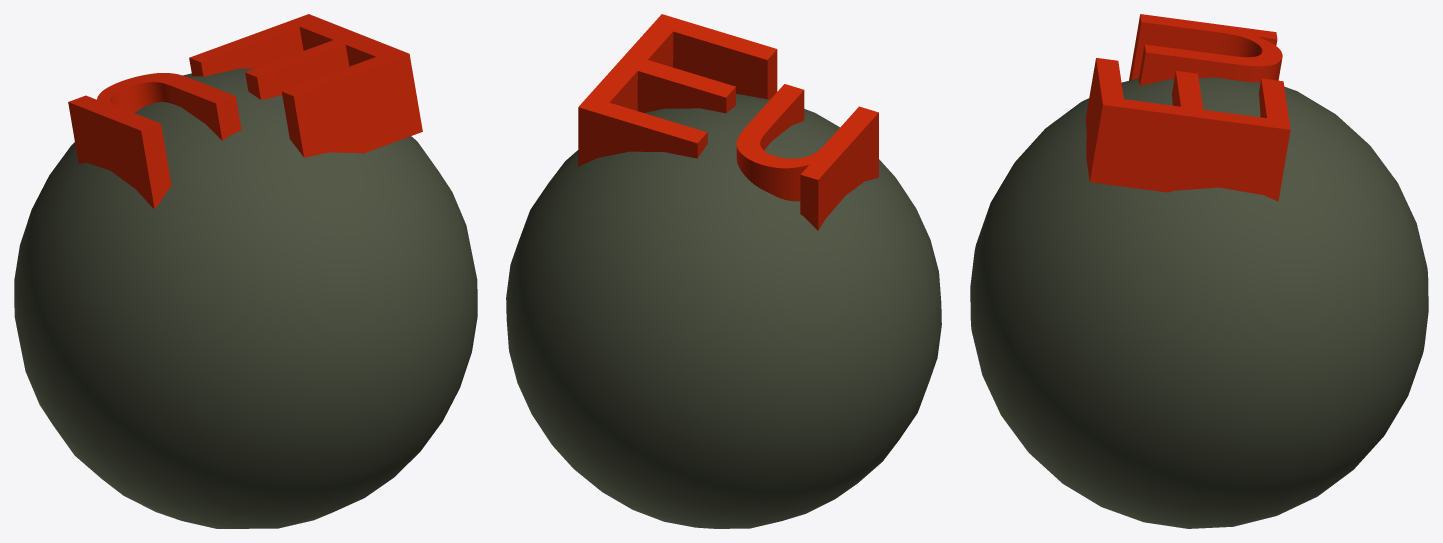
The picture shows the model from 3 angles, left to right: view 1: azimuth 30°, elevation 25°; view 2: azimuth 150°, elevation 25°; view 3: azimuth 270°, elevation 25°; orthographic projection. The views are drawn at different scales.
Parts seen in each view (by area): view 1: Eu; view 2: Eu; view 3: Eu.
Part boxes in pixels (x1,y1,x2,y2): Eu: (14, 14, 477, 528); Eu: (506, 14, 941, 528); Eu: (970, 14, 1428, 528).
Bounding box in the file's own units: 38.63 × 42.49 × 38.6.
